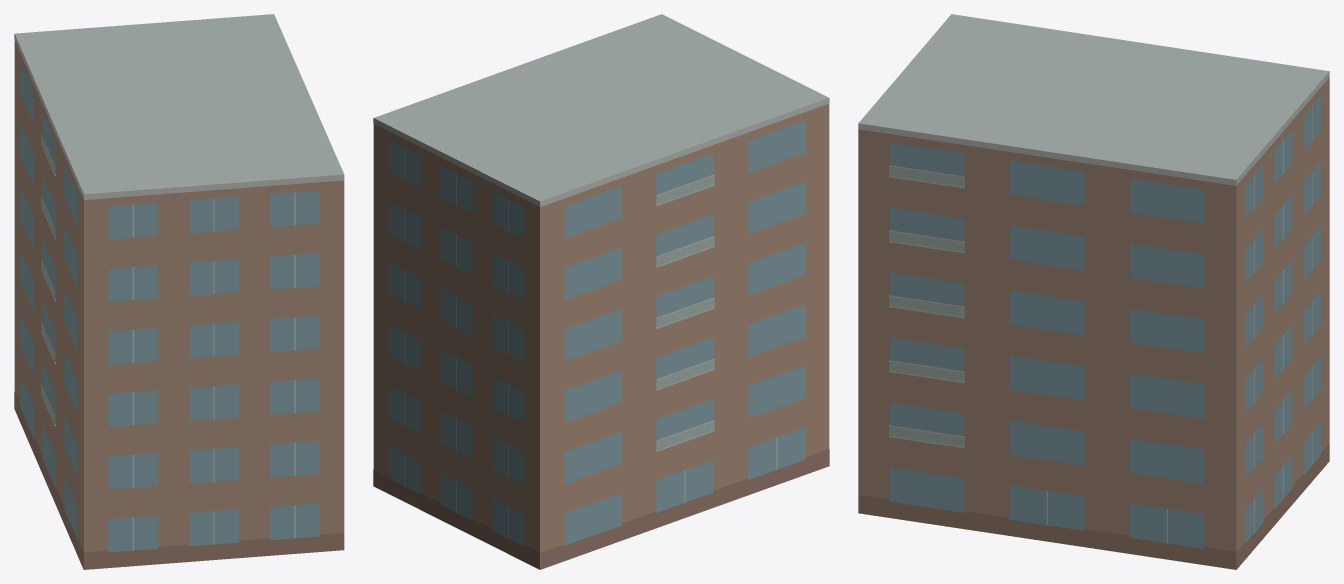
Rendered from survey-upis-32949433.glb.
3 renders of one model, left to right at view 1: azimuth 30°, elevation 25°; view 2: azimuth 150°, elevation 25°; view 3: azimuth 270°, elevation 25°, orthographic. The views are drawn at different scales.
Parts seen in each view (by area): view 1: survey-upis-32949433.tmp; view 2: survey-upis-32949433.tmp; view 3: survey-upis-32949433.tmp.
Part boxes in pixels (x1,y1,x2,y2): survey-upis-32949433.tmp: [14, 14, 344, 569]; survey-upis-32949433.tmp: [373, 14, 829, 569]; survey-upis-32949433.tmp: [858, 14, 1329, 569].
Bounding box in the file's own units: 14.62 × 16 × 17.54.
